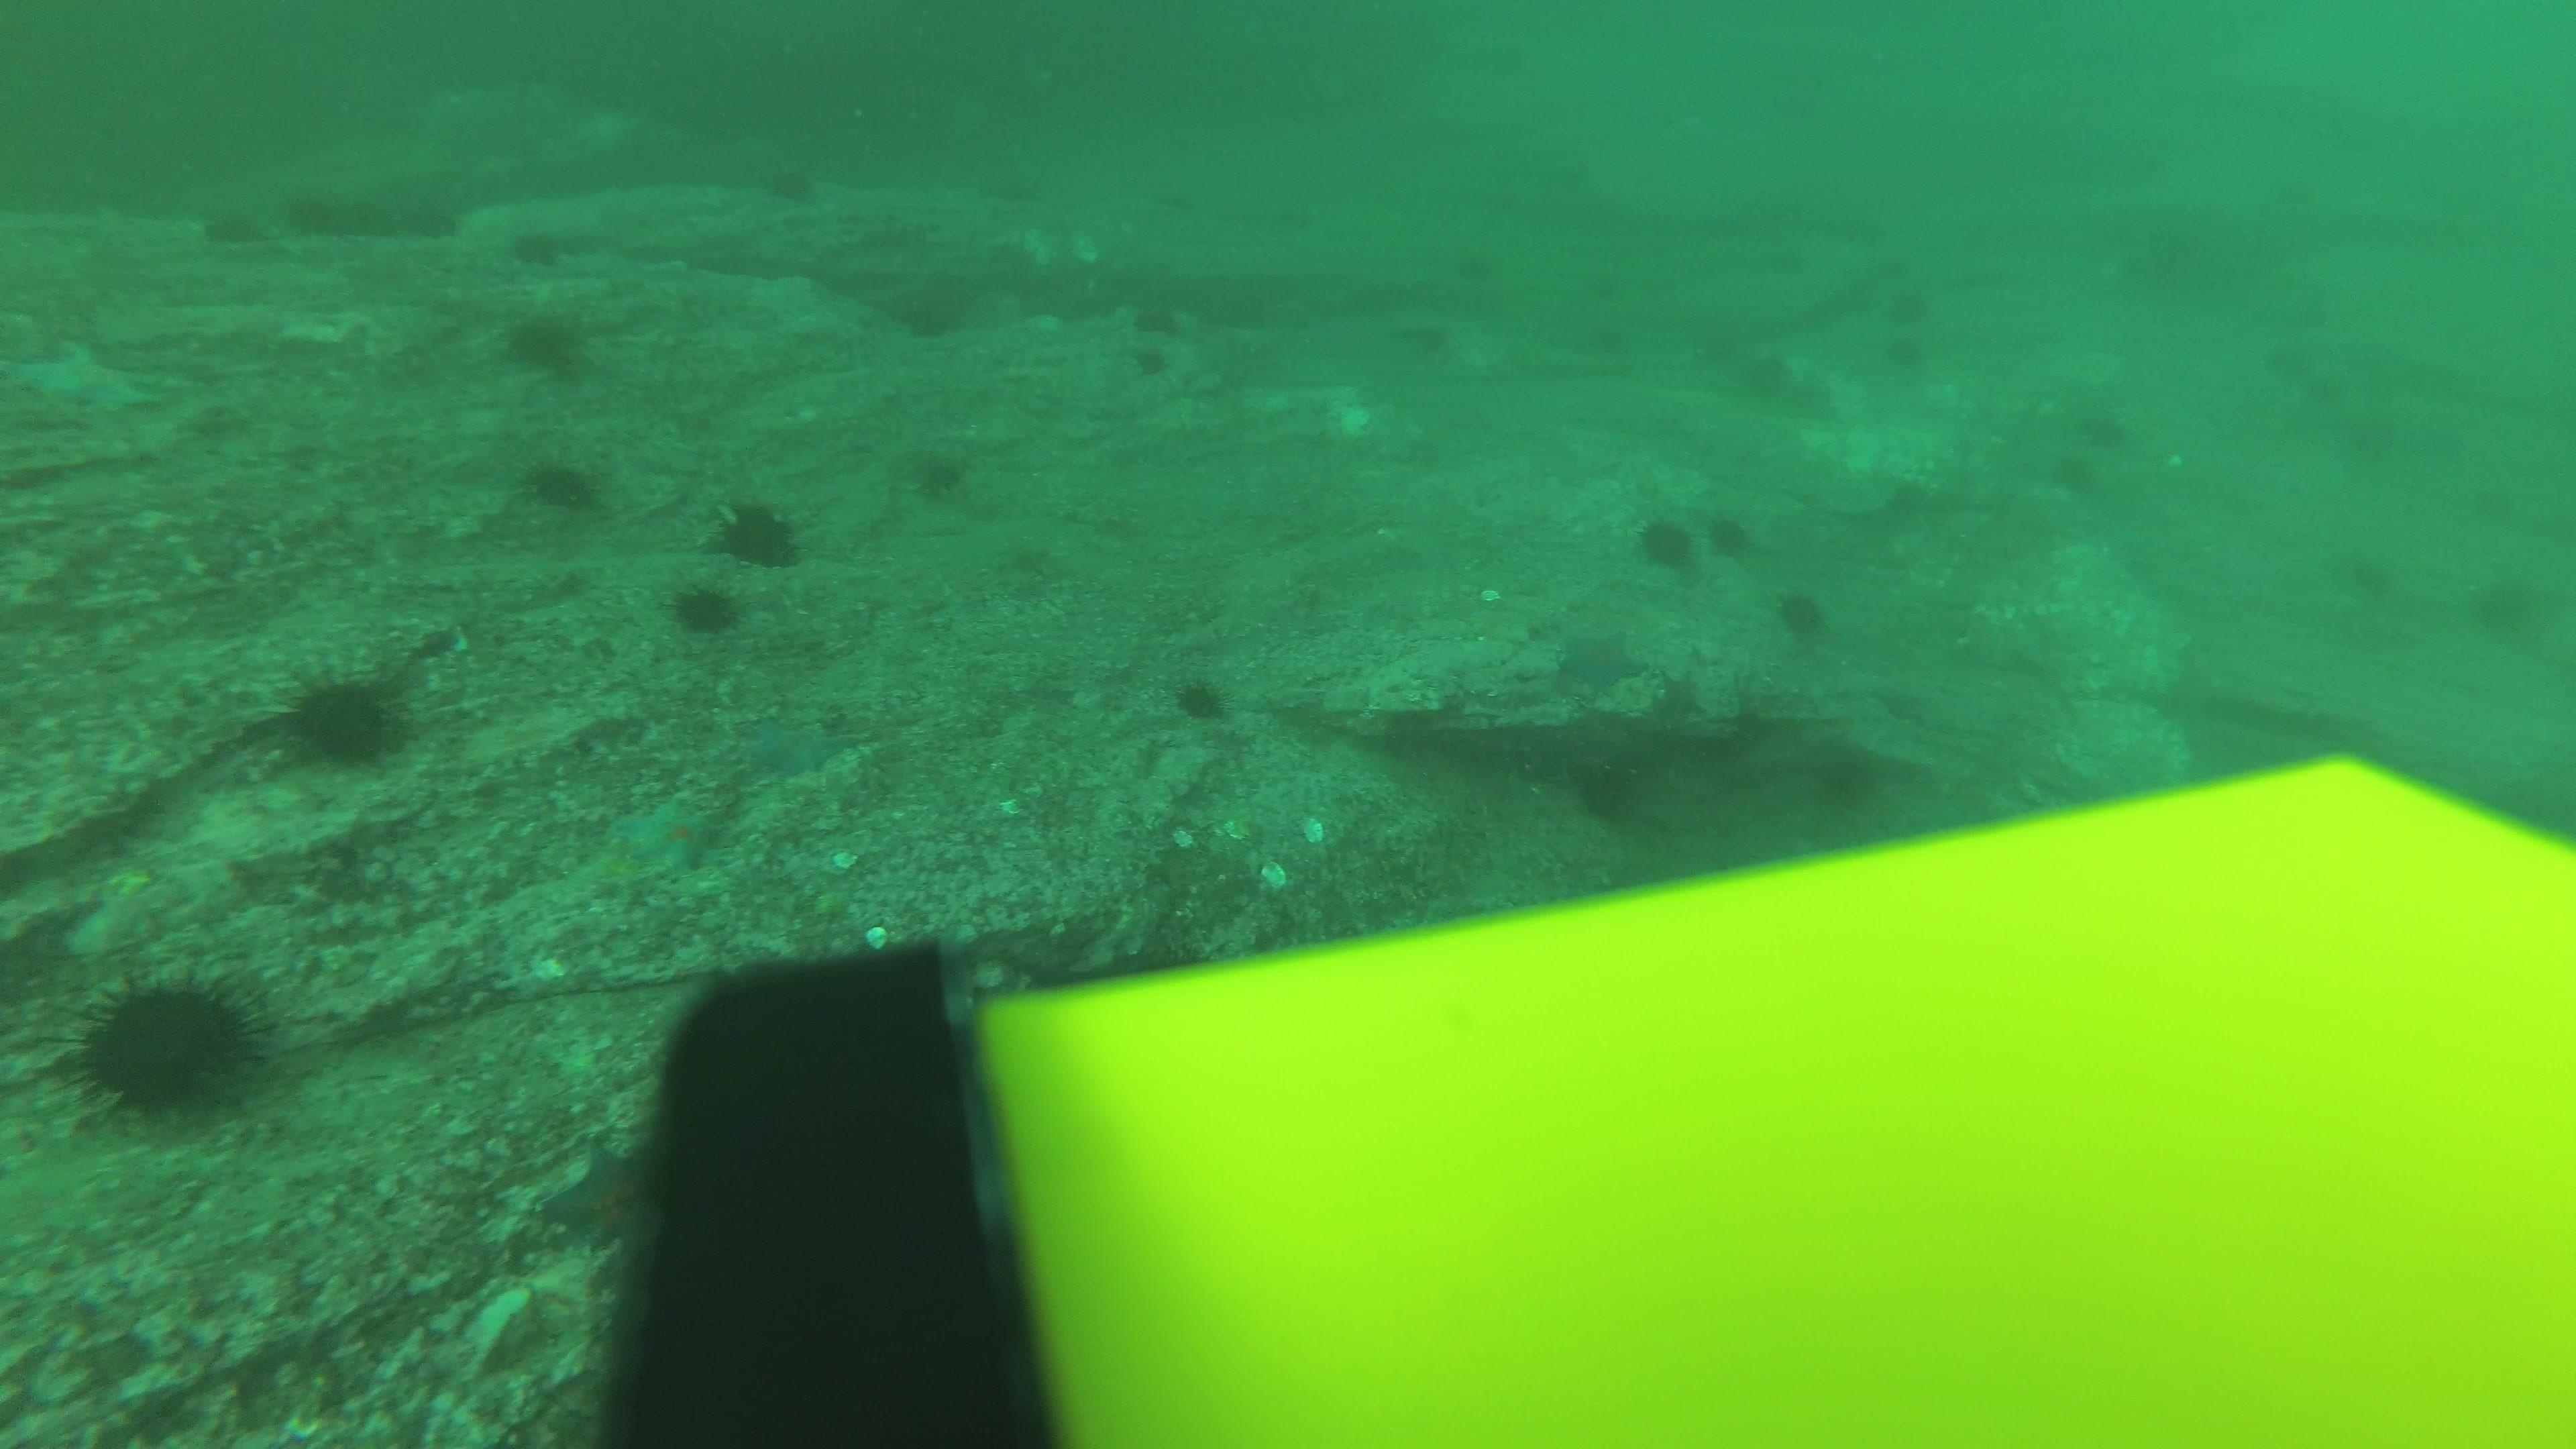echinus: (62, 966, 274, 1127), (276, 663, 410, 773), (708, 492, 805, 571), (2465, 566, 2553, 648), (499, 303, 593, 379), (892, 272, 977, 341), (1805, 741, 1884, 814), (518, 449, 603, 517), (1569, 754, 1644, 824), (667, 577, 743, 639), (904, 442, 973, 504), (1635, 508, 1700, 571), (196, 200, 265, 253), (1773, 582, 1831, 644), (1169, 669, 1233, 725), (1702, 506, 1755, 564), (763, 157, 821, 209), (341, 188, 400, 239), (508, 221, 568, 269), (409, 200, 464, 242), (294, 193, 340, 242), (2344, 412, 2396, 455), (2070, 412, 2125, 451), (2288, 366, 2342, 405), (2351, 564, 2406, 603), (2058, 458, 2112, 495), (1131, 304, 1184, 341), (1154, 186, 1207, 223), (1274, 202, 1327, 239), (1437, 248, 1490, 285), (1741, 357, 1794, 395), (1877, 338, 1930, 375), (1123, 345, 1177, 380), (1580, 326, 1633, 361), (1575, 271, 1628, 306), (1884, 292, 1937, 327), (1518, 131, 1571, 166), (989, 172, 1040, 207), (1877, 251, 1923, 283), (2272, 345, 2318, 375), (2270, 343, 2316, 373)
starfish: (534, 1131, 667, 1265), (4, 340, 166, 419), (605, 787, 725, 878), (732, 709, 853, 782), (1550, 628, 1649, 697), (1652, 671, 1706, 725)
